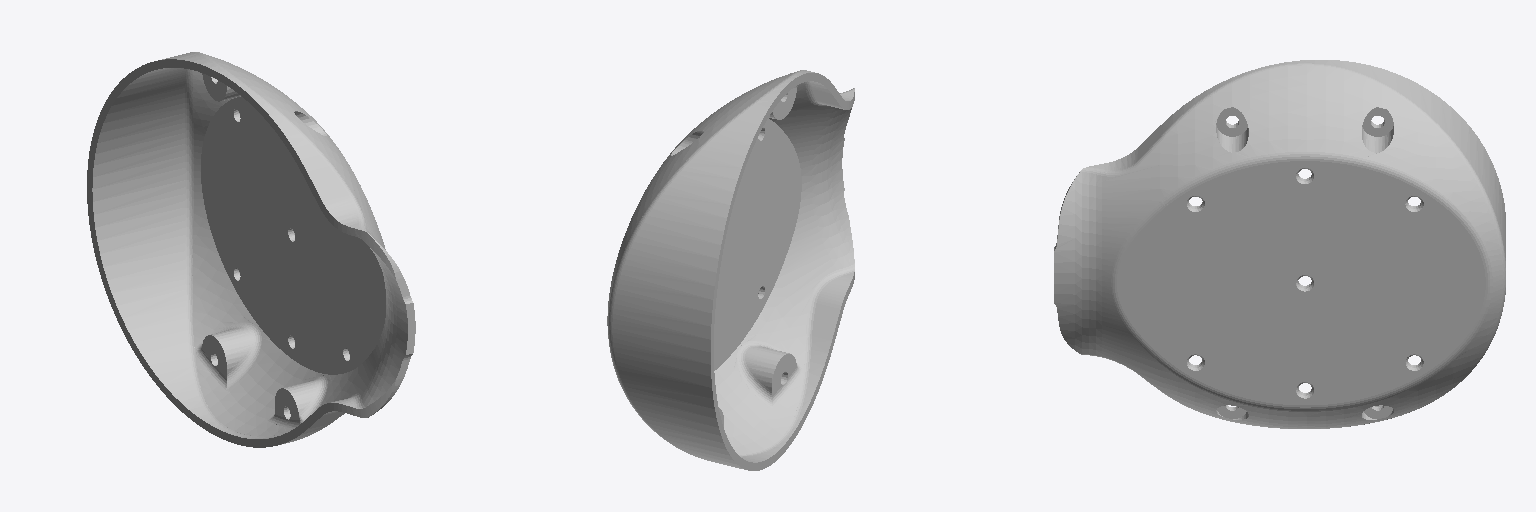
File: wrist_cap.stl.obj
The picture shows the model from 3 angles: view 1: azimuth 30°, elevation 25°; view 2: azimuth 150°, elevation 25°; view 3: azimuth 270°, elevation 25°; orthographic projection.
Parts seen in each view (by area): view 1: <STL_BINARY>; view 2: <STL_BINARY>; view 3: <STL_BINARY>.
Part boxes in pixels (x1,y1,x2,y2): <STL_BINARY>: (87, 52, 415, 447); <STL_BINARY>: (607, 70, 854, 470); <STL_BINARY>: (1054, 60, 1505, 428).
Bounding box in the file's own units: 0.0295 × 0.092 × 0.1035.